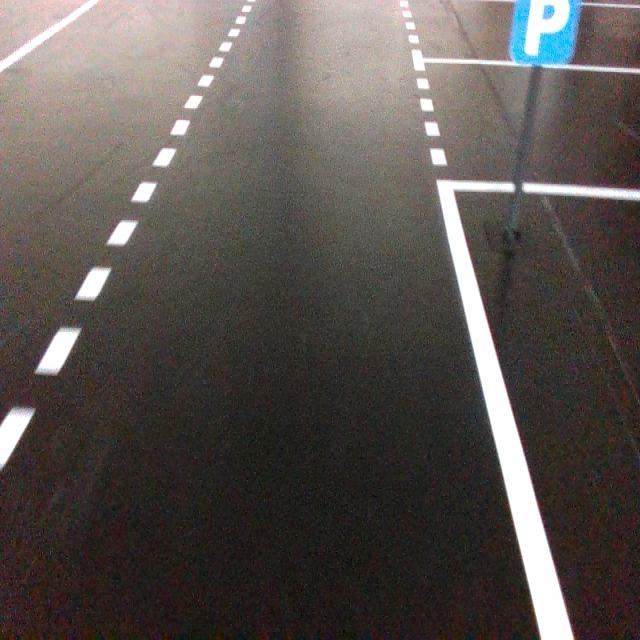parking-sign: (509, 0, 582, 66)
